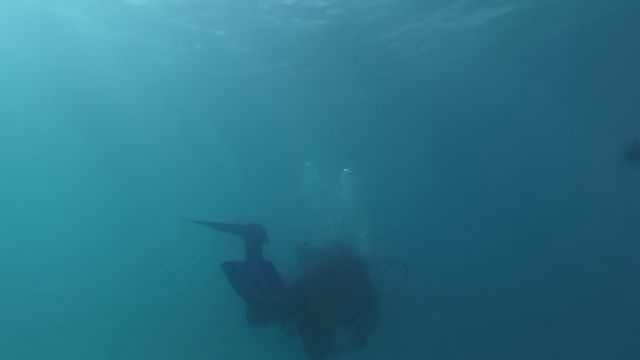Diver: (172, 195, 394, 358)
